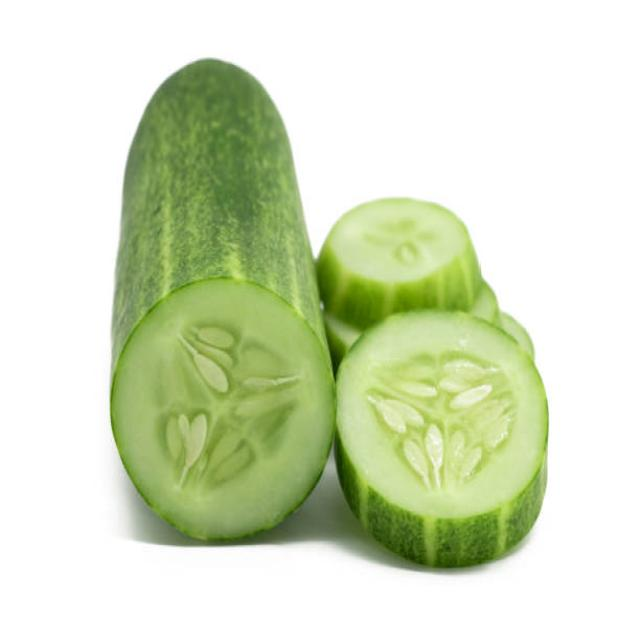cucumber: (108, 57, 336, 541)
